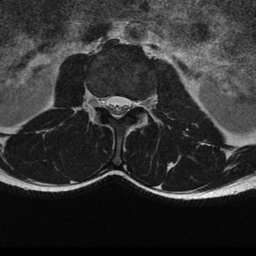CCS_normal: (113, 86, 122, 126)
LFS_normal: (132, 88, 142, 117)
LLS_normal: (122, 86, 131, 121)
RFS_normal: (93, 85, 103, 118)
RLS_normal: (103, 87, 113, 121)
